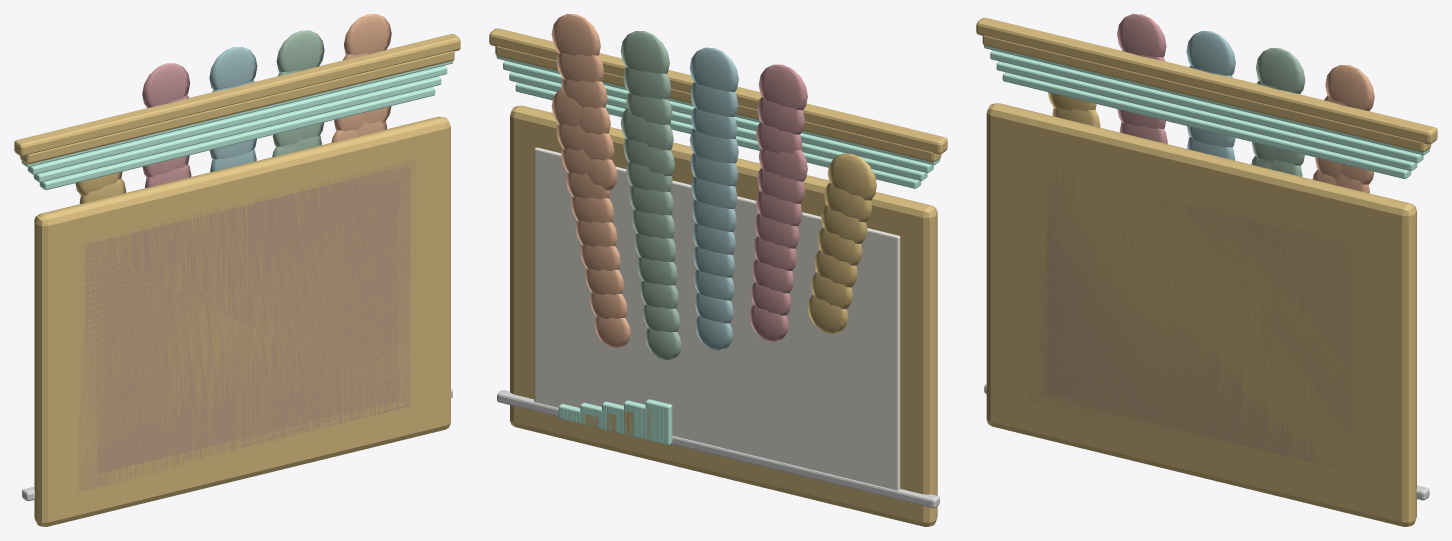
Rendered from Gear12.fbx.
3 views of the same model, side by side, from view 1: azimuth 30°, elevation 25°; view 2: azimuth 150°, elevation 25°; view 3: azimuth 330°, elevation 25° (orthographic). The views are drawn at different scales.
Visible parts, largest first — view 1: Gear12_V10_Gold, Gear12_V4_Wood, Gear12_V2_Wood, Gear12_V8_Gold, Gear12_V1_Wood, Gear12_V9_Gold, Gear12_V6_Gold, Gear12_V9_Glow, Gear12_V8_Glow, Gear12_V7_Glow, Gear12_V5_Wood, Gear12_V10_Rose (+7 smaller); view 2: Gear12_V10_Gold, Gear12_V10_Linen, Gear12_V9_Linen, Gear12_V8_Linen, Gear12_V1_Linen, Gear12_V6_Linen, Gear12_V9_Gold, Gear12_V2_Linen, Gear12_V5_Linen, Gear12_V9_Glow, Gear12_V10_Rose, Gear12_V8_Glow (+48 smaller); view 3: Gear12_V10_Gold, Gear12_V7_Gold, Gear12_V8_Gold, Gear12_V2_Wood, Gear12_V1_Wood, Gear12_V6_Gold, Gear12_V9_Gold, Gear12_V9_Glow, Gear12_V8_Glow, Gear12_V7_Glow, Gear12_V3_Wood, Gear12_V10_Rose (+8 smaller).
Boxes of the visible parts, x1,y1,x2,y2 form: Gear12_V10_Gold: (14,34,460,526); Gear12_V4_Wood: (84,165,410,478); Gear12_V2_Wood: (97,177,398,473); Gear12_V8_Gold: (60,147,434,491); Gear12_V1_Wood: (103,220,392,455); Gear12_V9_Gold: (20,51,454,503); Gear12_V6_Gold: (72,153,422,477); Gear12_V9_Glow: (27,65,447,174); Gear12_V8_Glow: (33,76,441,182); Gear12_V7_Glow: (39,87,435,190); Gear12_V5_Wood: (78,159,416,491); Gear12_V10_Rose: (142,63,189,177); Gear12_V10_Gold: (489,28,947,526); Gear12_V10_Linen: (534,147,900,490); Gear12_V9_Linen: (540,156,891,488); Gear12_V8_Linen: (546,160,886,482); Gear12_V1_Linen: (583,204,795,433); Gear12_V6_Linen: (556,171,875,406); Gear12_V9_Gold: (495,46,941,515); Gear12_V2_Linen: (578,199,854,381); Gear12_V5_Linen: (562,191,870,432); Gear12_V9_Glow: (503,61,933,441); Gear12_V10_Rose: (758,64,807,181); Gear12_V8_Glow: (509,72,927,442); Gear12_V10_Gold: (976,17,1437,526); Gear12_V7_Gold: (1011,142,1383,503); Gear12_V8_Gold: (1003,133,1389,509); Gear12_V2_Wood: (1040,187,1352,471); Gear12_V1_Wood: (1047,172,1345,428); Gear12_V6_Gold: (1015,140,1376,443); Gear12_V9_Gold: (982,35,1431,468); Gear12_V9_Glow: (990,50,1423,163); Gear12_V8_Glow: (996,61,1417,170); Gear12_V7_Glow: (1002,72,1411,178); Gear12_V3_Wood: (1034,161,1358,458); Gear12_V10_Rose: (1117,14,1166,128).
Bounding box in the file's own units: 125 × 115 × 9.44.
